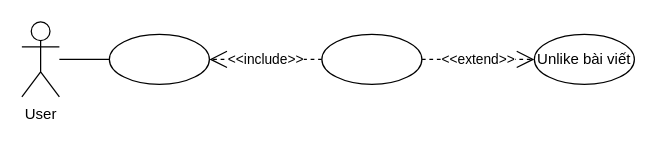
Some shapes in this 656 by 145 pixel diagram are drawn without their labels. The shapes that lost their labels are listed below. From the top down, each one's centre as x and y in pixels, then its label:
At point (158, 58): "Đăng nhập".
At point (371, 58): "Like bài viêt".
